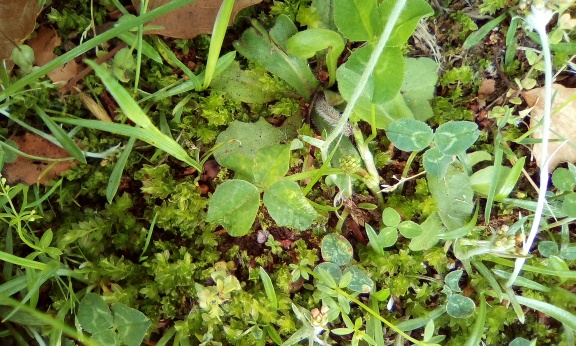4leaf: (205, 143, 319, 237)
